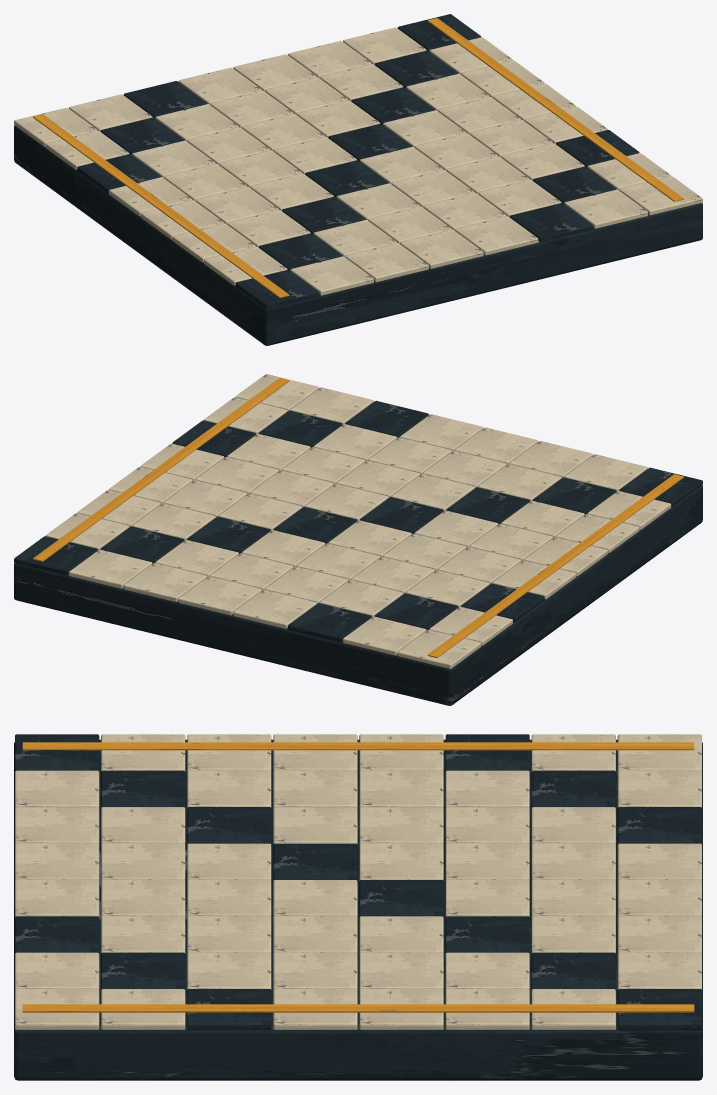
The model's file is walkway-floor.glb.
3 views of the same model, one above another, from view 1: azimuth 30°, elevation 25°; view 2: azimuth 150°, elevation 25°; view 3: azimuth 270°, elevation 25° (orthographic). The views are drawn at different scales.
Parts seen in each view (by area): view 1: walkway-floor__walkway-floor__ivory, walkway-floor__walkway-floor__steel, walkway-floor__walkway-floor__amber; view 2: walkway-floor__walkway-floor__ivory, walkway-floor__walkway-floor__steel, walkway-floor__walkway-floor__amber; view 3: walkway-floor__walkway-floor__ivory, walkway-floor__walkway-floor__steel, walkway-floor__walkway-floor__amber.
Part boxes in pixels (bbox=[...]): walkway-floor__walkway-floor__ivory: bbox=[14, 27, 702, 295]; walkway-floor__walkway-floor__steel: bbox=[14, 14, 702, 345]; walkway-floor__walkway-floor__amber: bbox=[33, 18, 683, 297]; walkway-floor__walkway-floor__ivory: bbox=[46, 374, 671, 669]; walkway-floor__walkway-floor__steel: bbox=[14, 400, 702, 705]; walkway-floor__walkway-floor__amber: bbox=[33, 378, 683, 657]; walkway-floor__walkway-floor__ivory: bbox=[15, 734, 701, 1030]; walkway-floor__walkway-floor__steel: bbox=[14, 734, 702, 1080]; walkway-floor__walkway-floor__amber: bbox=[22, 742, 694, 1012].
Bounding box in the file's own units: 4 × 0.386 × 4.
3 materials, 3 textured.
